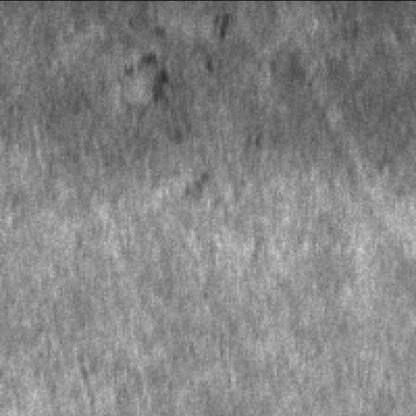rolled-in_scale: (119, 13, 233, 162)
